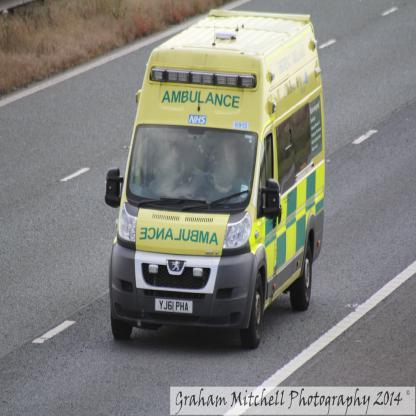Ambulance - v1 Ambulance last generate: (103, 12, 325, 347)
